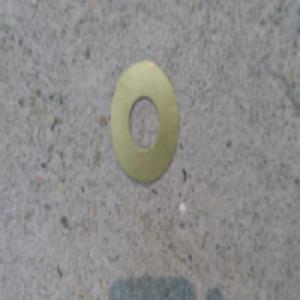Washer: (108, 61, 181, 190)
